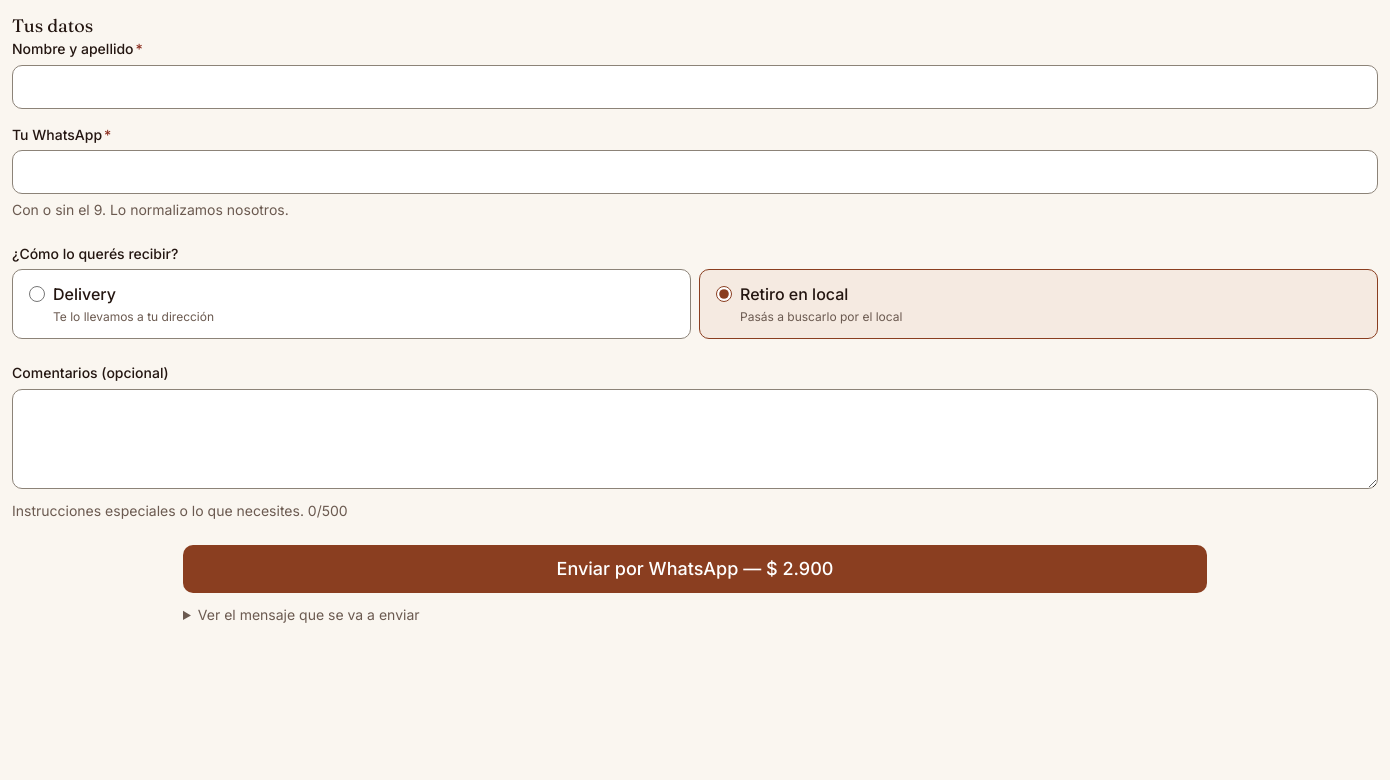
Test case: CheckoutForm › debe bloquear el envío con el teléfono inválido y no navegar
Type "Juan Pérez" into the field labelled "Nombre y apellido*".
click(695, 87); type("Juan Pérez")  # box x1=12 y1=65 x2=1378 y2=109
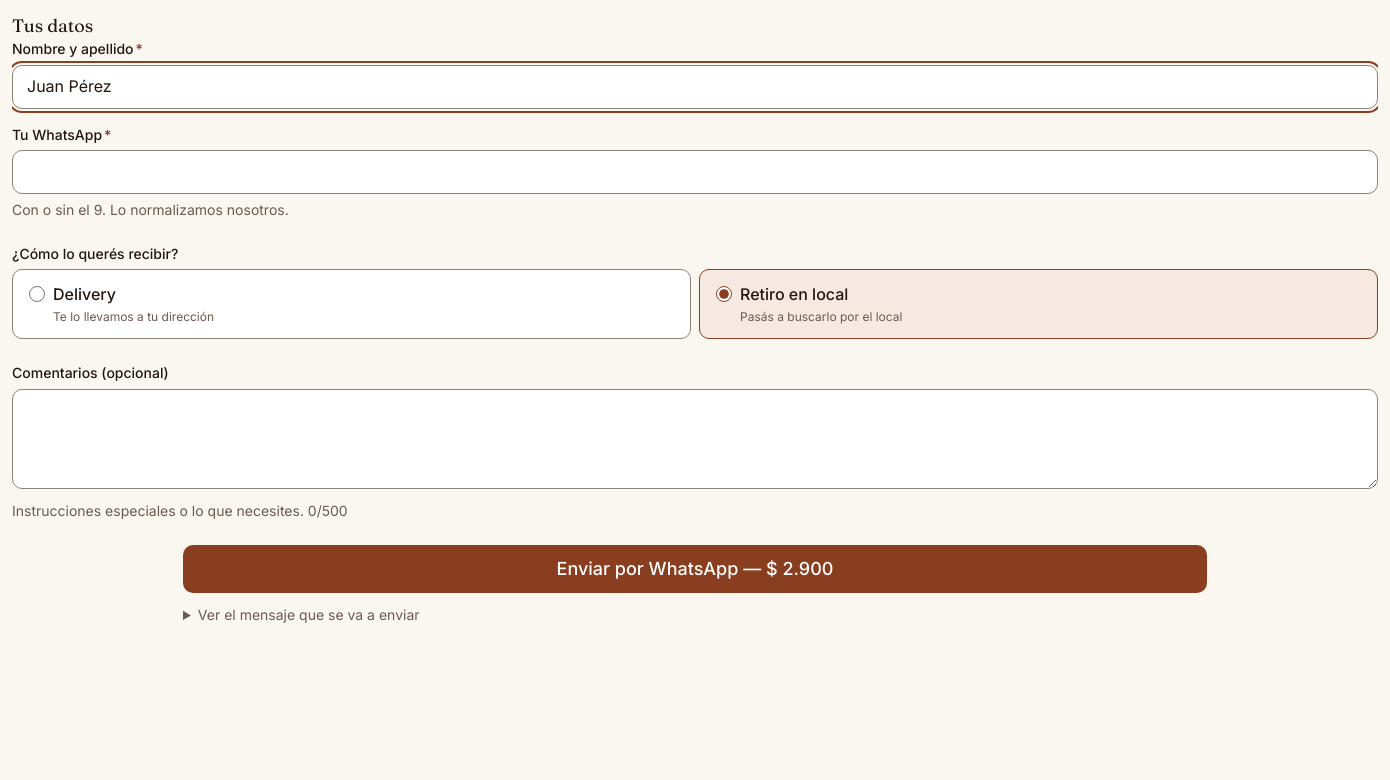
Type "123" into the field labelled "Tu WhatsApp*".
click(695, 172); type("123")  # box x1=12 y1=150 x2=1378 y2=194
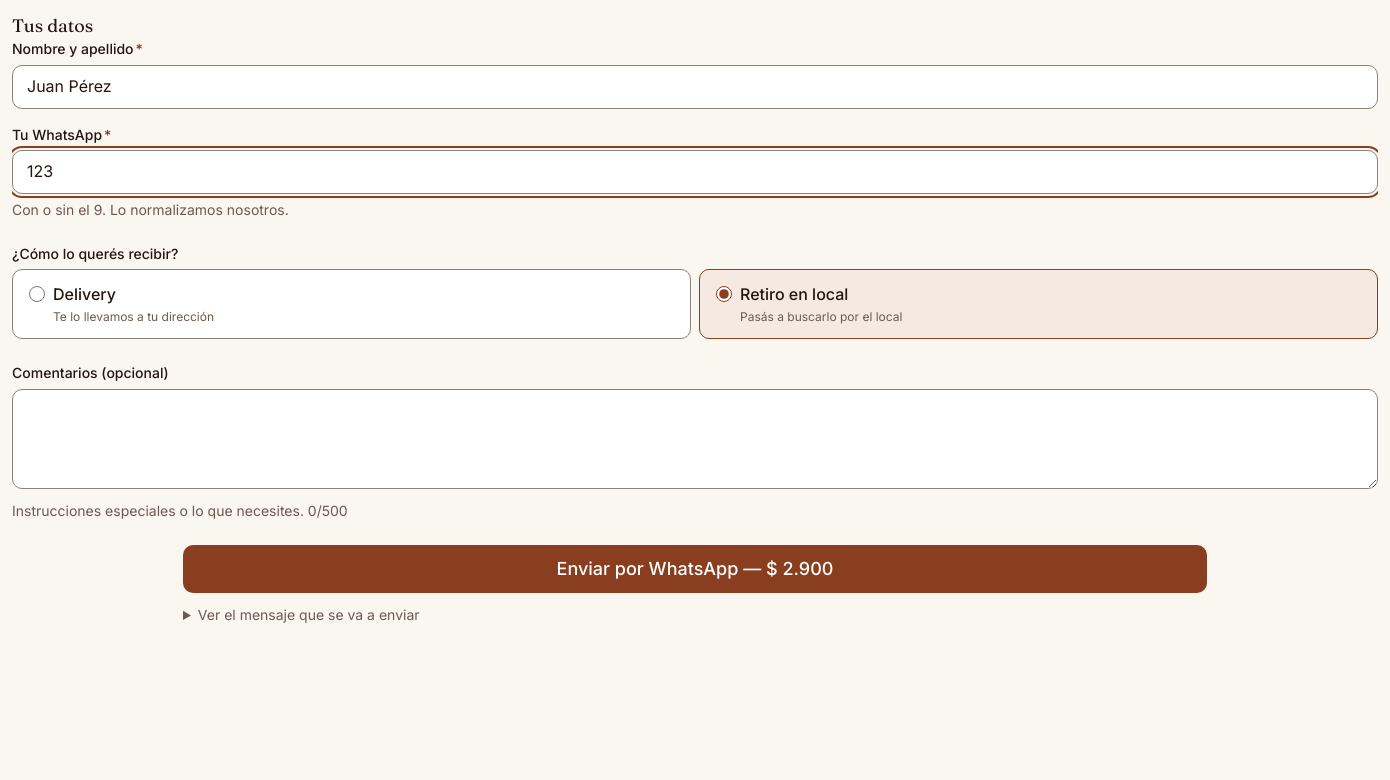
Click the button "Enviar por WhatsApp — $ 2.900".
click(695, 569)  # box x1=183 y1=545 x2=1207 y2=593
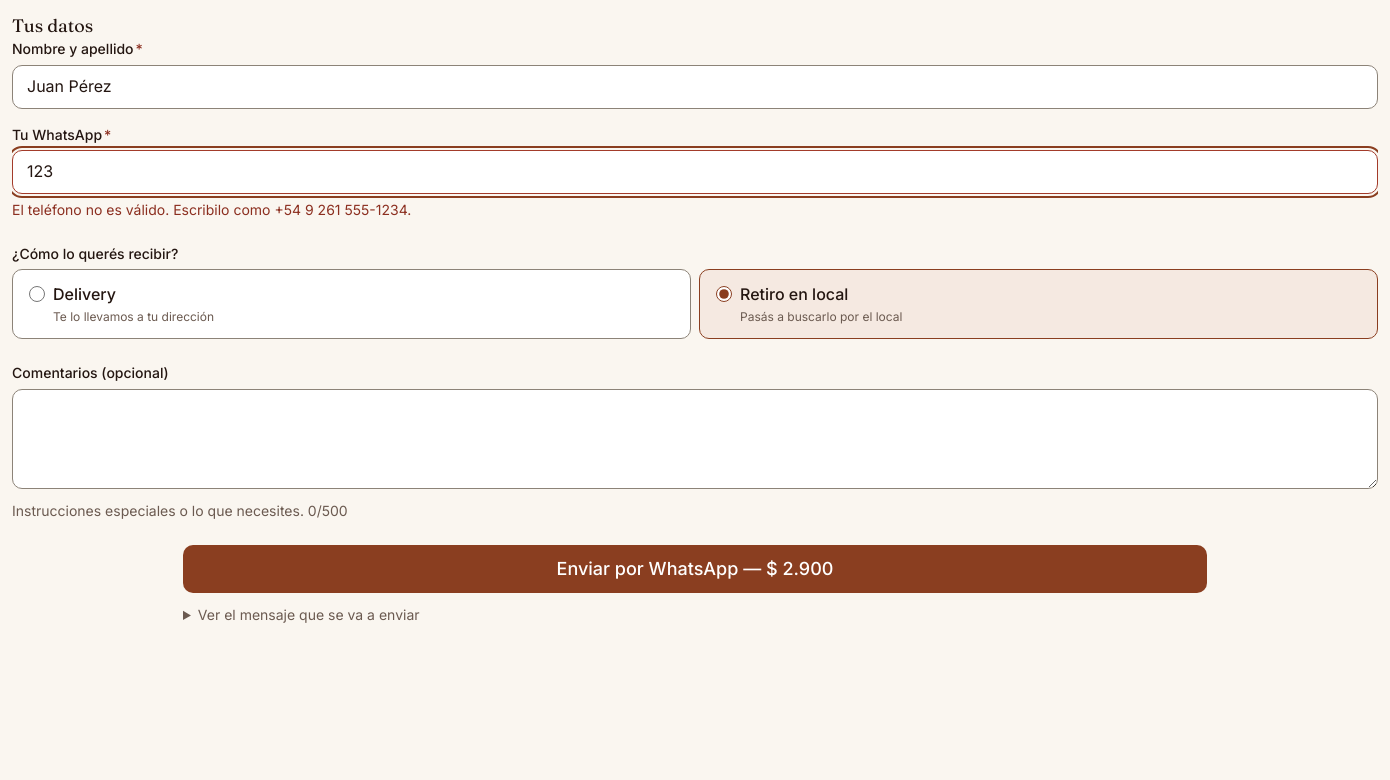
Check: the message shows "teléfono", box x1=12 y1=201 x2=411 y2=218
